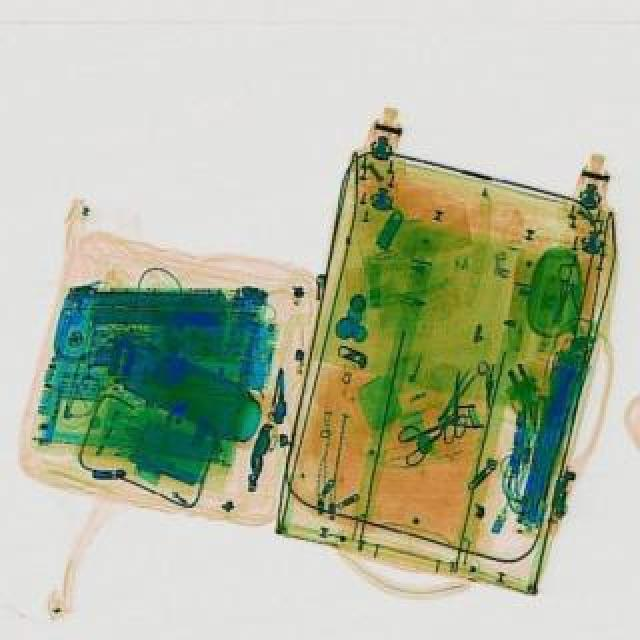pliers: (390, 402, 472, 464), (438, 364, 470, 440)
